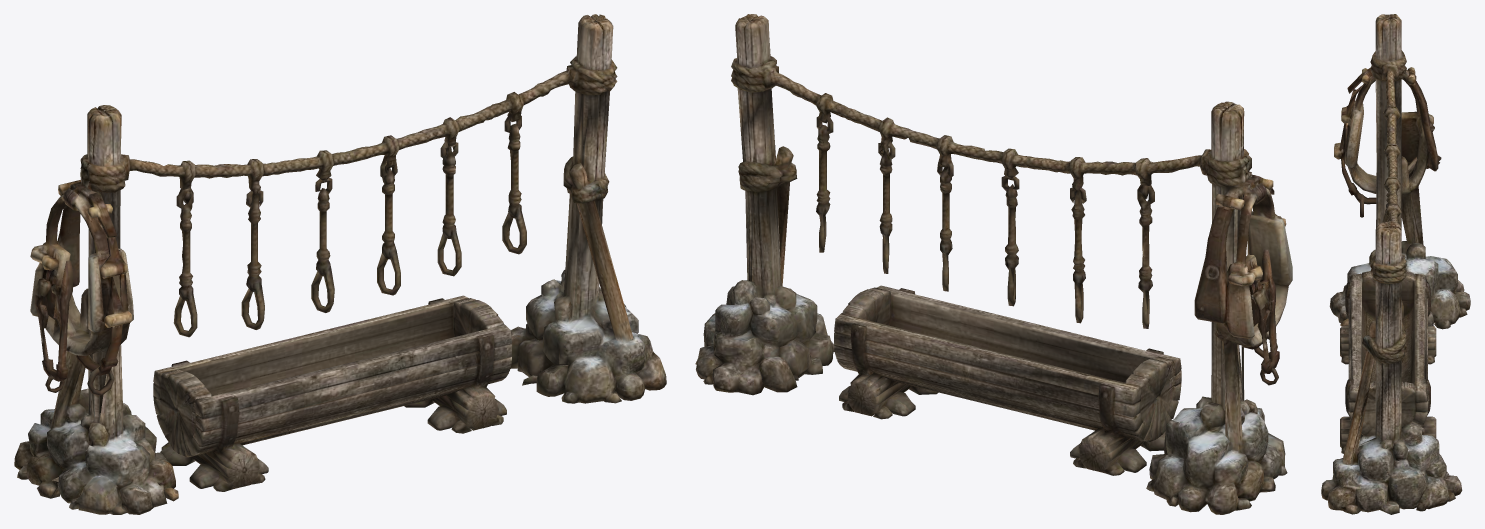
Rendered from kf_dog_picket.glb.
3 renders of one model, left to right at view 1: azimuth 30°, elevation 25°; view 2: azimuth 150°, elevation 25°; view 3: azimuth 270°, elevation 25°, orthographic. The views are drawn at different scales.
Visible parts, largest first — view 1: kf_dog_picket; view 2: kf_dog_picket; view 3: kf_dog_picket.
Part boxes in pixels (x1,y1,x2,y2): kf_dog_picket: [14, 14, 666, 514]; kf_dog_picket: [695, 14, 1292, 514]; kf_dog_picket: [1321, 14, 1470, 514].
Size of the model in its own units: 3.4 by 2.08 by 0.9515.
Materials: 1 (1 with a texture image).
